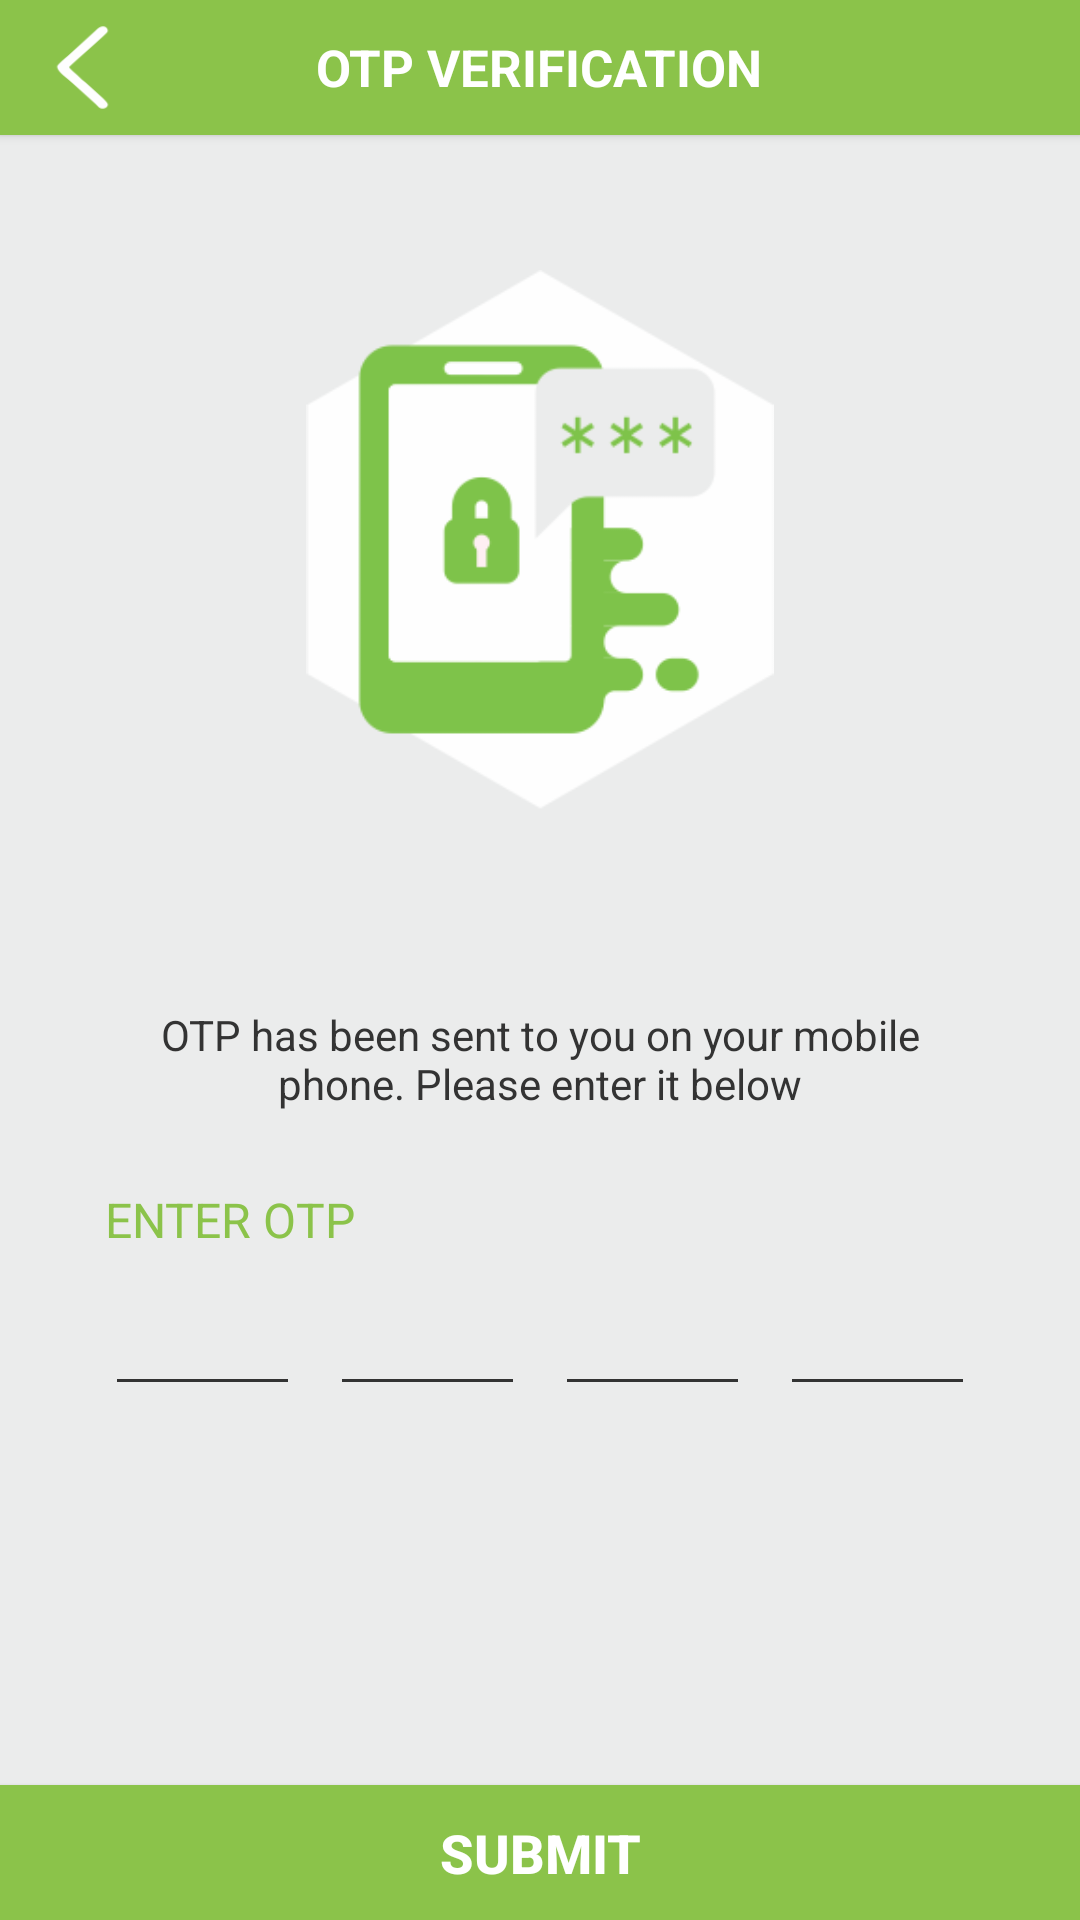

Icon bounding boxes for this 1080w x 1920h phone screenshot, format (x1, y1, x2, y2):
back arrow: (57, 26, 109, 109)
